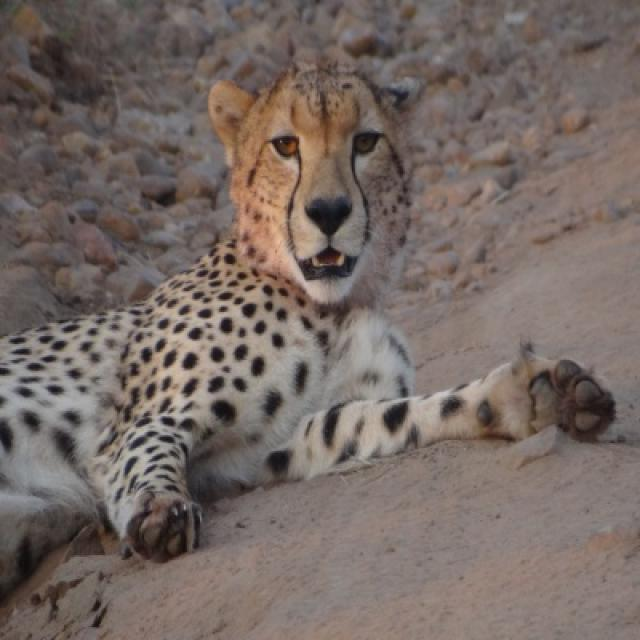Cheetah: (0, 54, 608, 610)
